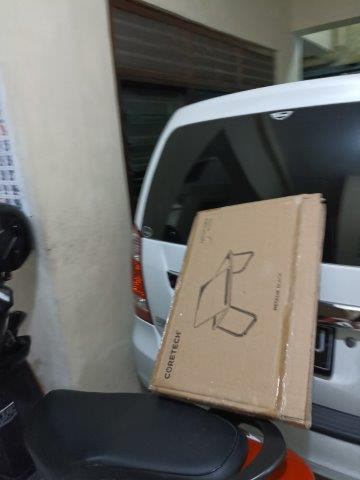kardus: (152, 195, 326, 425)
